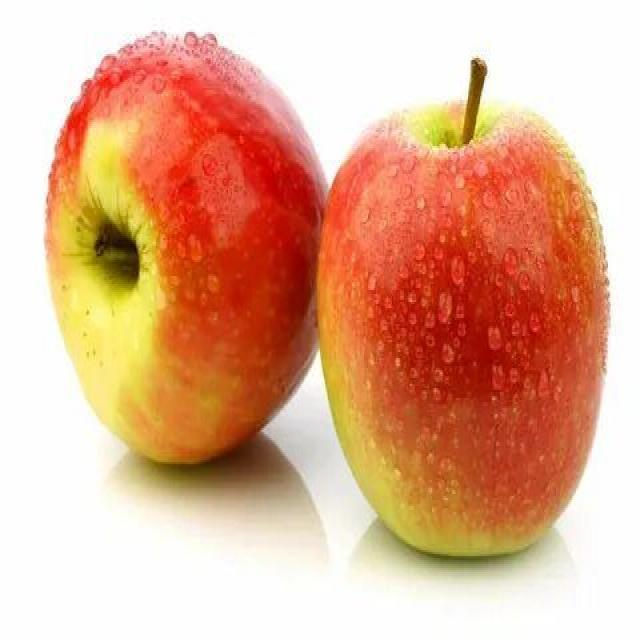Fresh Apple: (330, 115, 622, 562), (70, 40, 288, 493)
